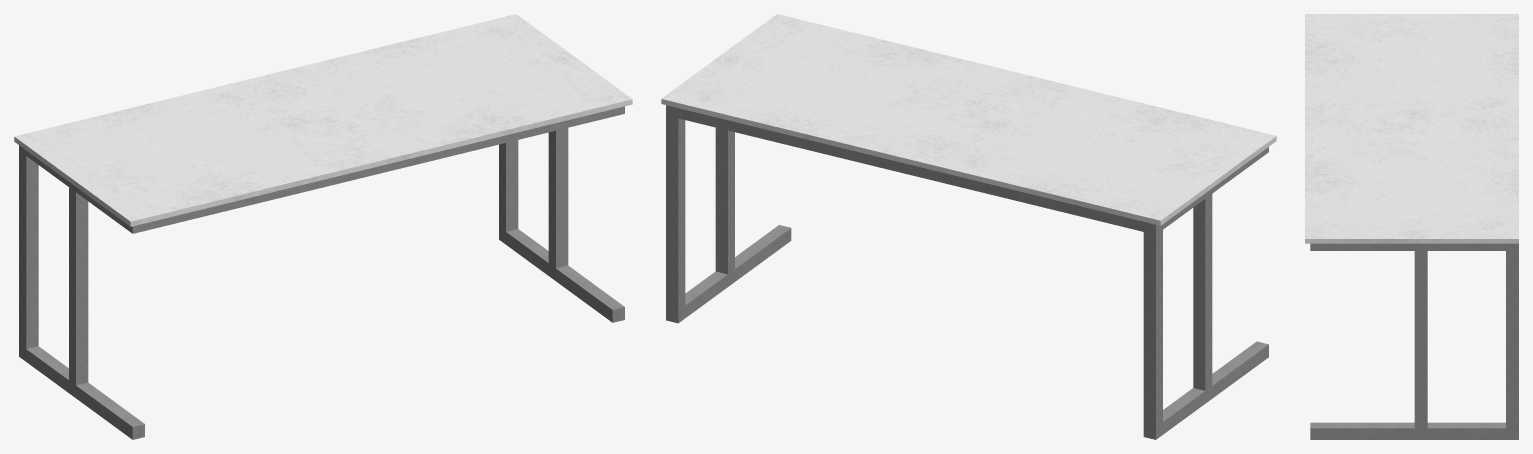
File: table.fbx
3 renders of one model, left to right at view 1: azimuth 30°, elevation 25°; view 2: azimuth 150°, elevation 25°; view 3: azimuth 270°, elevation 25°, orthographic. The views are drawn at different scales.
Parts seen in each view (by area): view 1: plank, legs, supp, frame; view 2: plank, legs, frame, supp; view 3: plank, legs, supp, frame.
Boxes of the visible parts, x1,y1,x2,y2 form: plank: [14, 14, 632, 226]; legs: [19, 128, 568, 385]; supp: [19, 227, 624, 439]; frame: [19, 106, 624, 233]; plank: [661, 14, 1276, 225]; legs: [666, 115, 1212, 426]; frame: [666, 105, 1268, 234]; supp: [666, 225, 1268, 439]; plank: [1305, 14, 1518, 243]; legs: [1414, 251, 1518, 428]; supp: [1310, 422, 1518, 439]; frame: [1310, 243, 1518, 250].
Bounding box in the file's own units: 204 × 86 × 82.
Materials: 3 (3 with a texture image).
